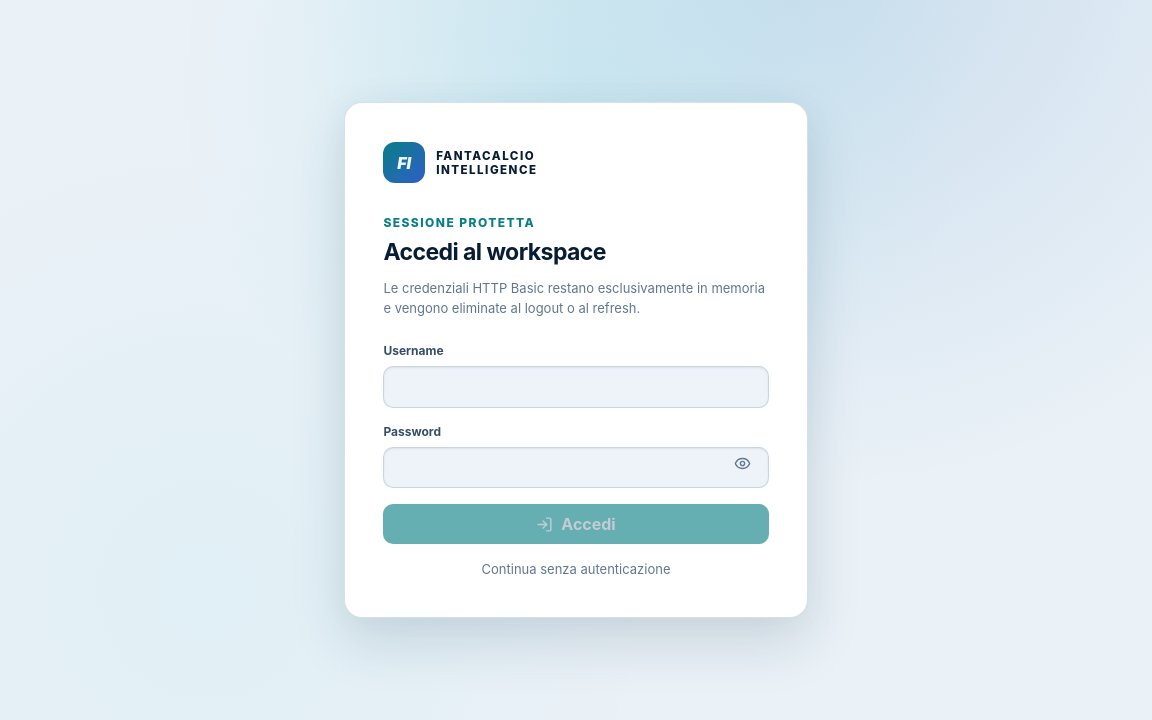
Test: App shell e router › porta l’utente autenticato alla Live Auction e spiega la rosa mancante
Expected: the heading "Accedi al workspace" is shown, left=383, top=238, right=606, bottom=266
Type "utente" into the field labelled "Username". click: (576, 387)
box: left=383, top=366, right=769, bottom=408
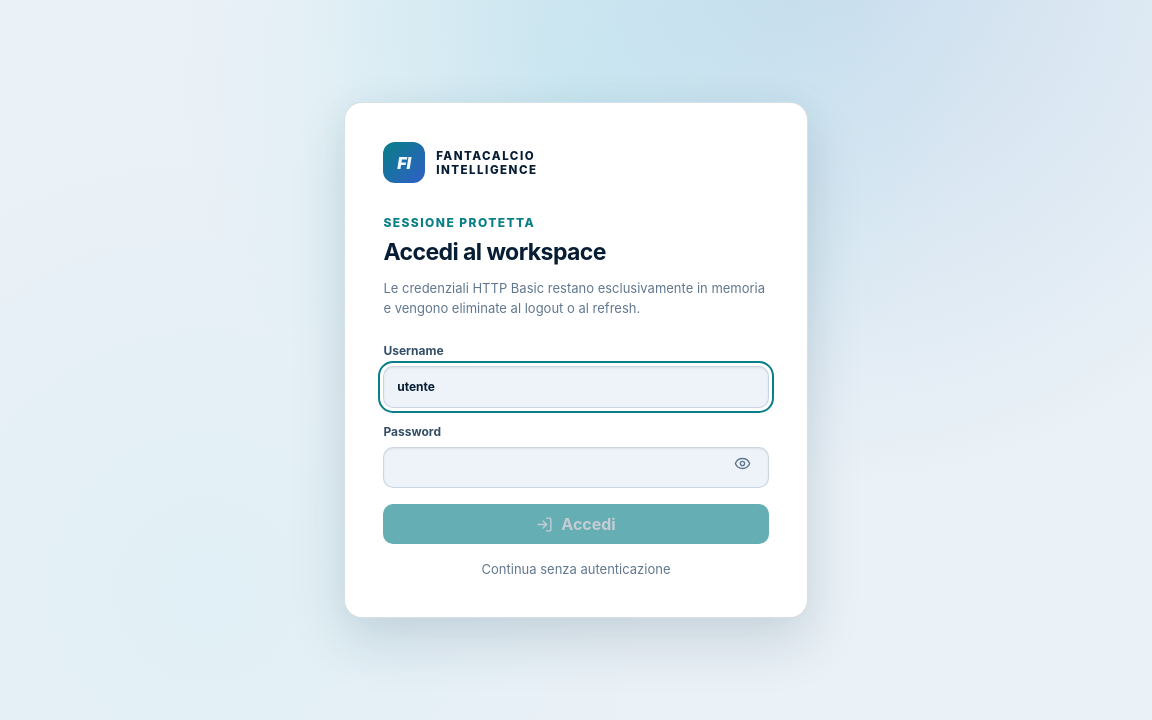
Type "password" into the password field labelled "Password". click: (576, 468)
box: left=383, top=447, right=769, bottom=488
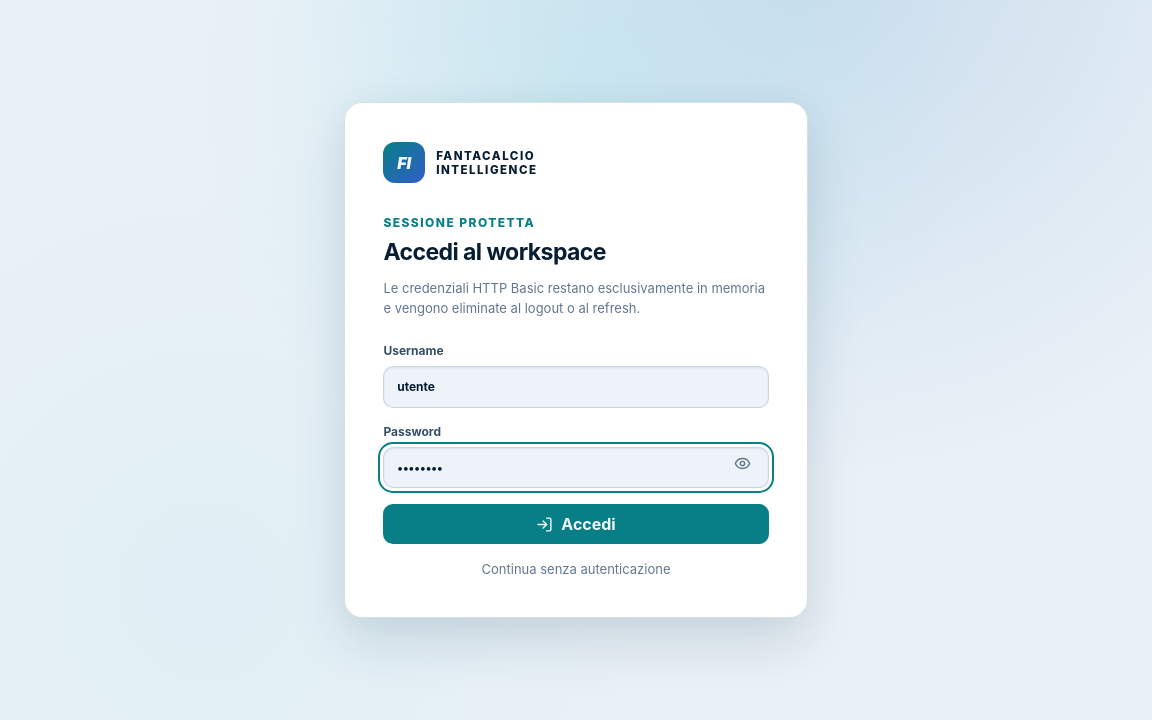
Click the button "Accedi". click: (576, 524)
box: left=383, top=504, right=769, bottom=544
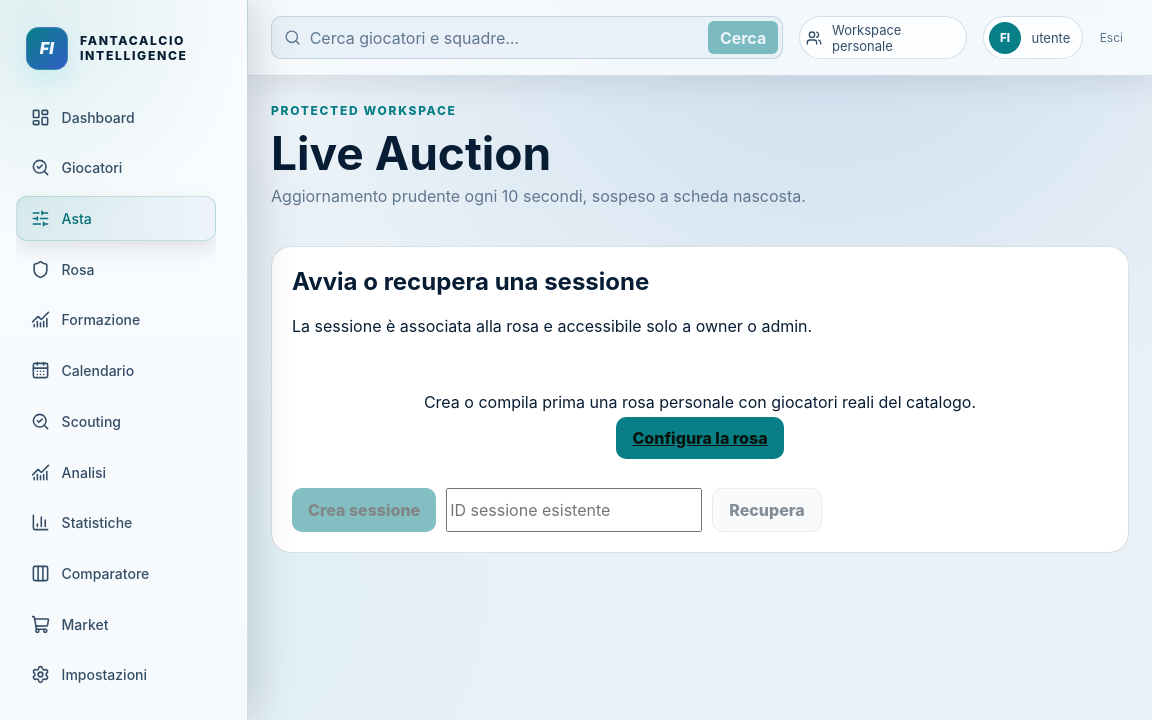
Expected: the heading "Live Auction" is shown, left=271, top=125, right=551, bottom=181
Expected: the text "Crea o compila prima una rosa personale" is shown, left=424, top=392, right=976, bottom=412
